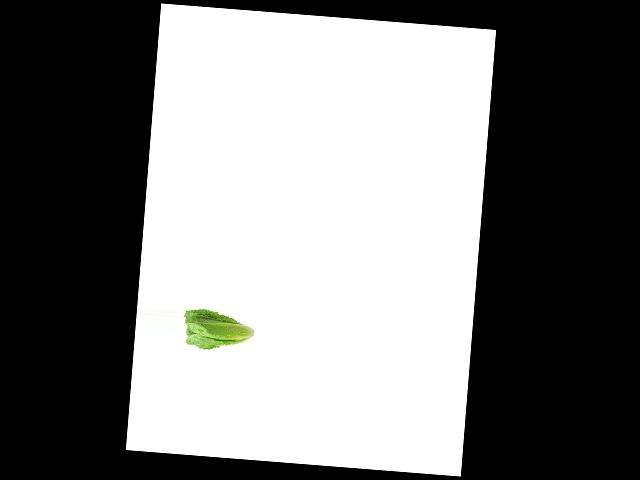lettuce: (181, 304, 257, 355)
